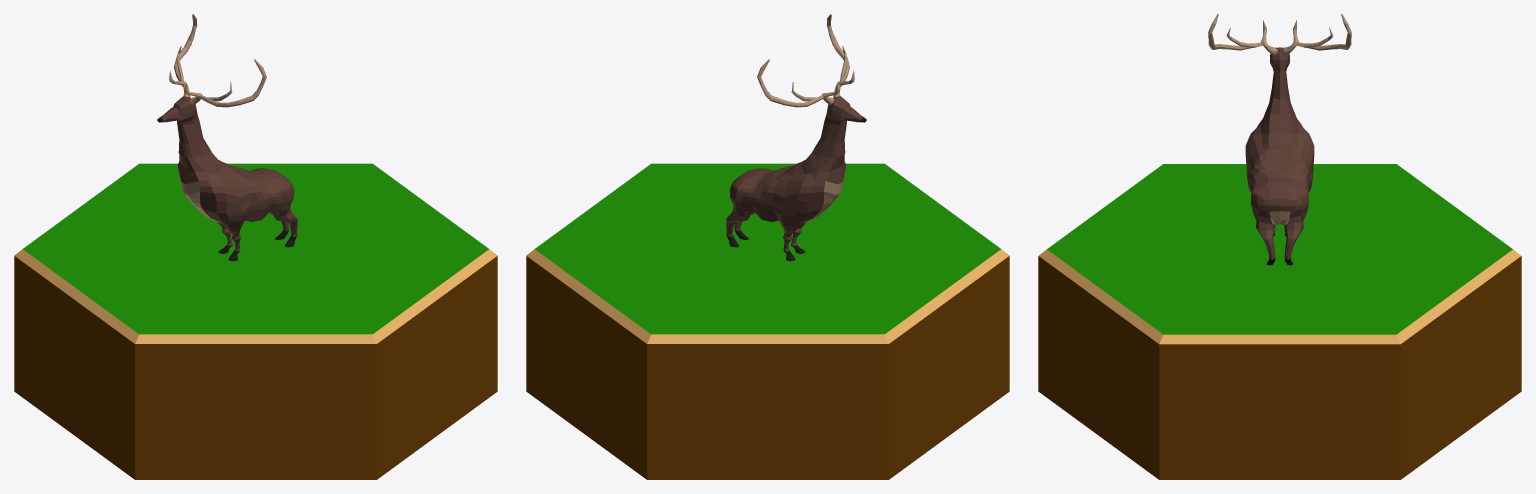
The model's file is altigen_blok_geyik.fbx.
The picture shows the model from 3 angles, left to right: view 1: azimuth 30°, elevation 25°; view 2: azimuth 150°, elevation 25°; view 3: azimuth 270°, elevation 25°; orthographic projection.
Parts seen in each view (by area): view 1: ground, deer; view 2: ground, deer; view 3: ground, deer.
Boxes of the visible parts, x1,y1,x2,y2 form: ground: (14, 163, 497, 479); deer: (157, 14, 297, 261); ground: (526, 163, 1009, 479); deer: (726, 14, 866, 261); ground: (1038, 164, 1521, 479); deer: (1208, 14, 1351, 265).
Bounding box in the file's own units: 1.73 × 1.65 × 2.
